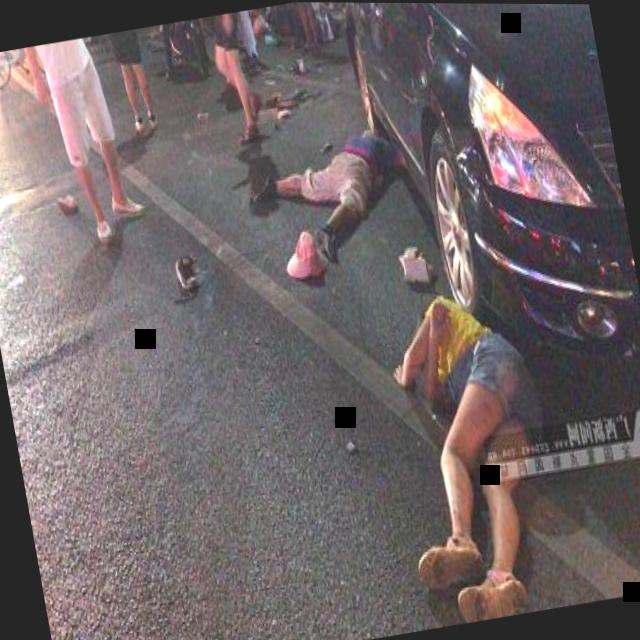Fall-Detected: (237, 89, 435, 305)
